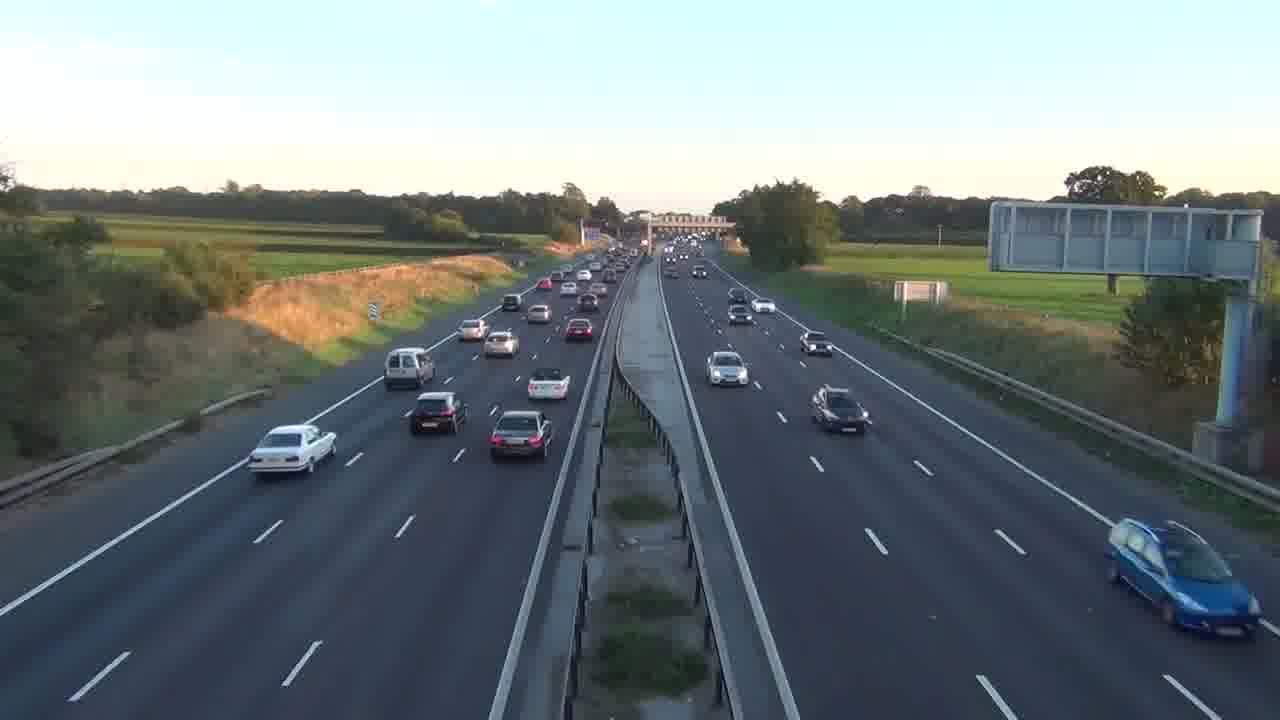car: (1105, 516, 1262, 641), (247, 424, 338, 477), (487, 409, 553, 460), (810, 385, 873, 435), (406, 390, 467, 435), (706, 349, 751, 388), (527, 368, 571, 400), (481, 329, 519, 358), (563, 318, 594, 342), (526, 303, 552, 324)
truck: (384, 347, 435, 391)
